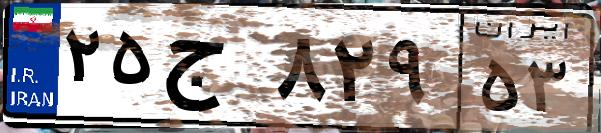2: (330, 28, 385, 110), (57, 26, 110, 100)
3: (525, 38, 570, 115)
5: (475, 38, 525, 113), (110, 28, 158, 98)
8: (270, 28, 330, 110)
9: (385, 28, 445, 110)
ج: (158, 20, 270, 120)
